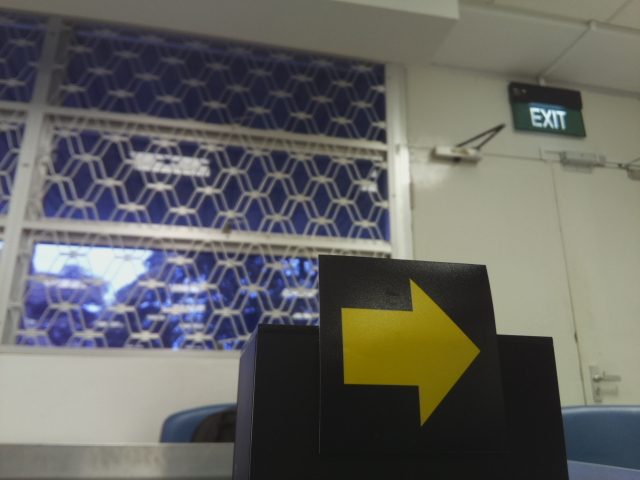right: (333, 276, 486, 429)
